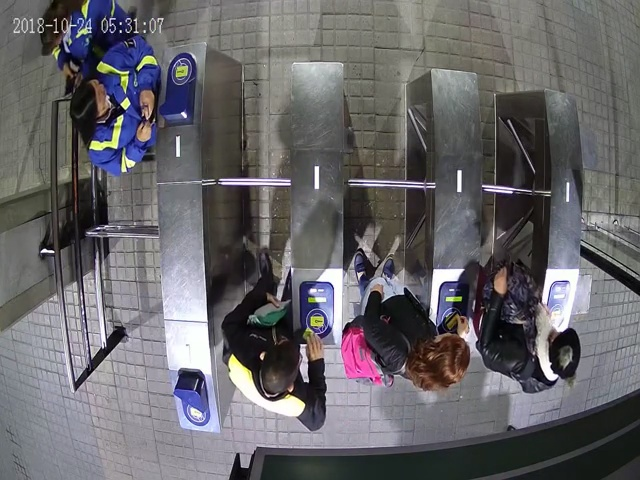Chaleco_azul: (71, 40, 161, 174), (39, 1, 134, 95)
